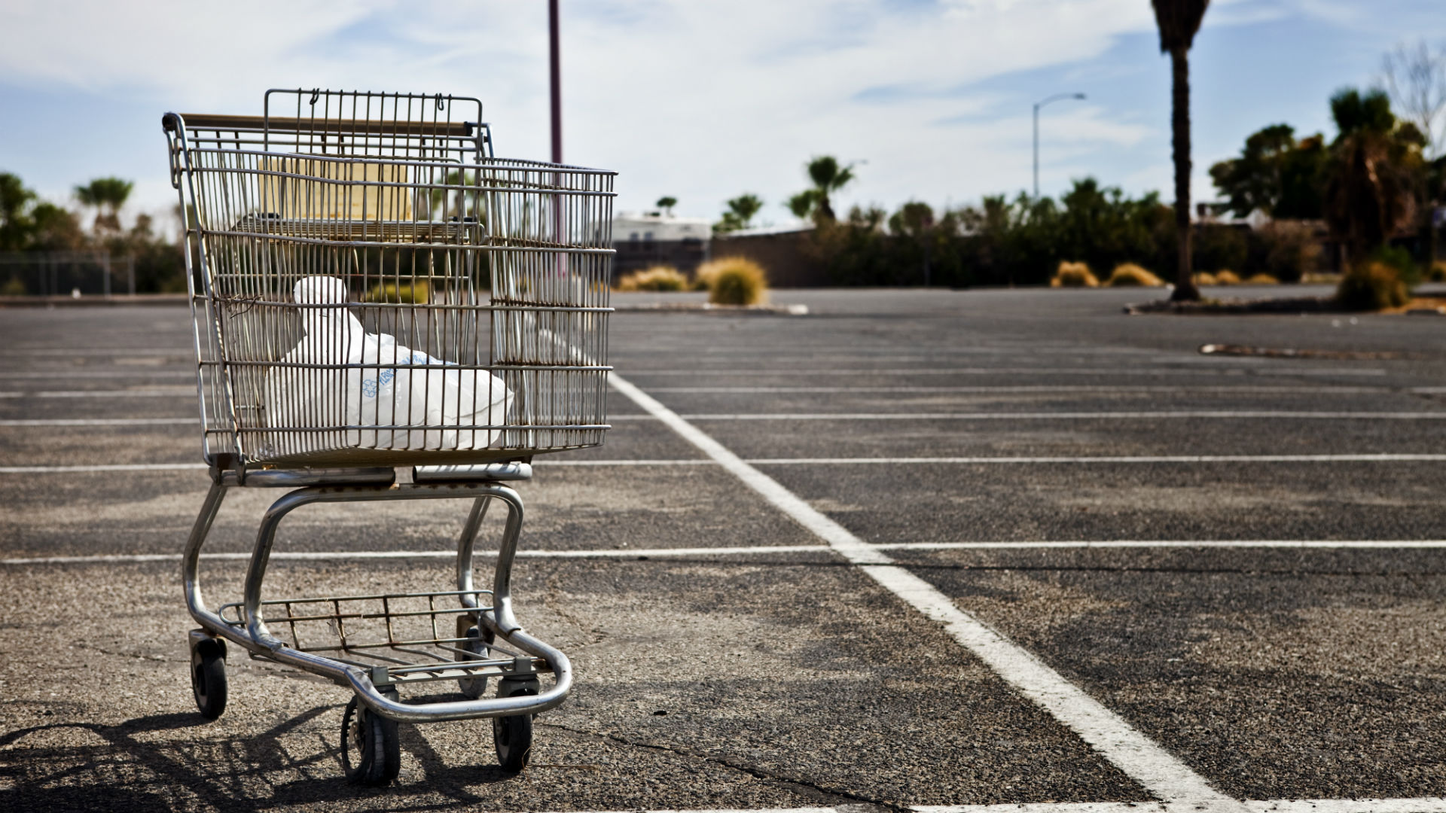shopping_cart: (134, 78, 621, 784)
